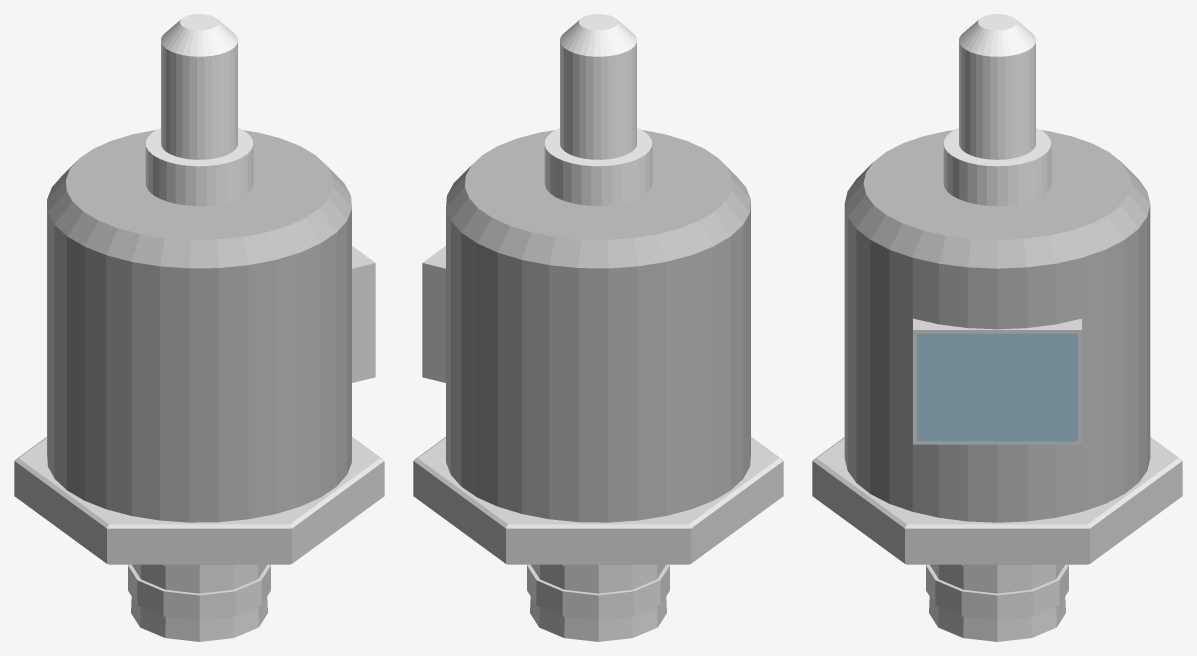
Rendered from pressure_sensor.fbx.
The picture shows the model from 3 angles, left to right: view 1: azimuth 30°, elevation 25°; view 2: azimuth 150°, elevation 25°; view 3: azimuth 270°, elevation 25°; orthographic projection.
Parts seen in each view (by area): view 1: body, Cylinder, antenna; view 2: body, Cylinder, antenna; view 3: body, Cylinder, screen, antenna.
Boxes of the visible parts, x1,y1,x2,y2 form: body: (47,130,351,522); Cylinder: (14,246,384,641); antenna: (145,14,253,205); body: (446,130,750,522); Cylinder: (413,246,783,641); antenna: (544,14,652,205); body: (844,130,1150,522); Cylinder: (812,318,1182,641); screen: (917,333,1077,441); antenna: (943,14,1051,205).
Bounding box in the file's own units: 210 × 426 × 242.
